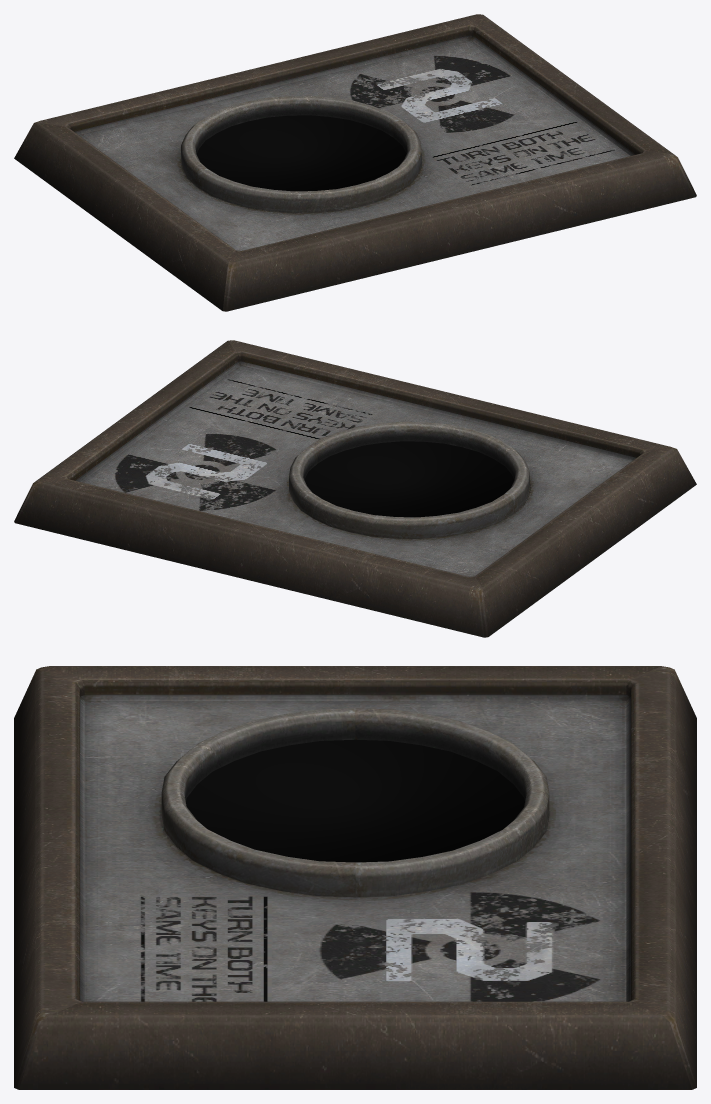
The model's file is reactor_shutdown_lock_base02.dae.
3 renders of one model, top to bottom at view 1: azimuth 30°, elevation 25°; view 2: azimuth 150°, elevation 25°; view 3: azimuth 270°, elevation 25°, orthographic. The views are drawn at different scales.
Parts seen in each view (by area): view 1: polySurface2; view 2: polySurface2; view 3: polySurface2.
Boxes of the visible parts, x1,y1,x2,y2 form: polySurface2: (14,14,696,311); polySurface2: (14,340,696,637); polySurface2: (14,666,696,1089).
Bounding box in the file's own units: 0.3776 × 0.0343 × 0.2918.
